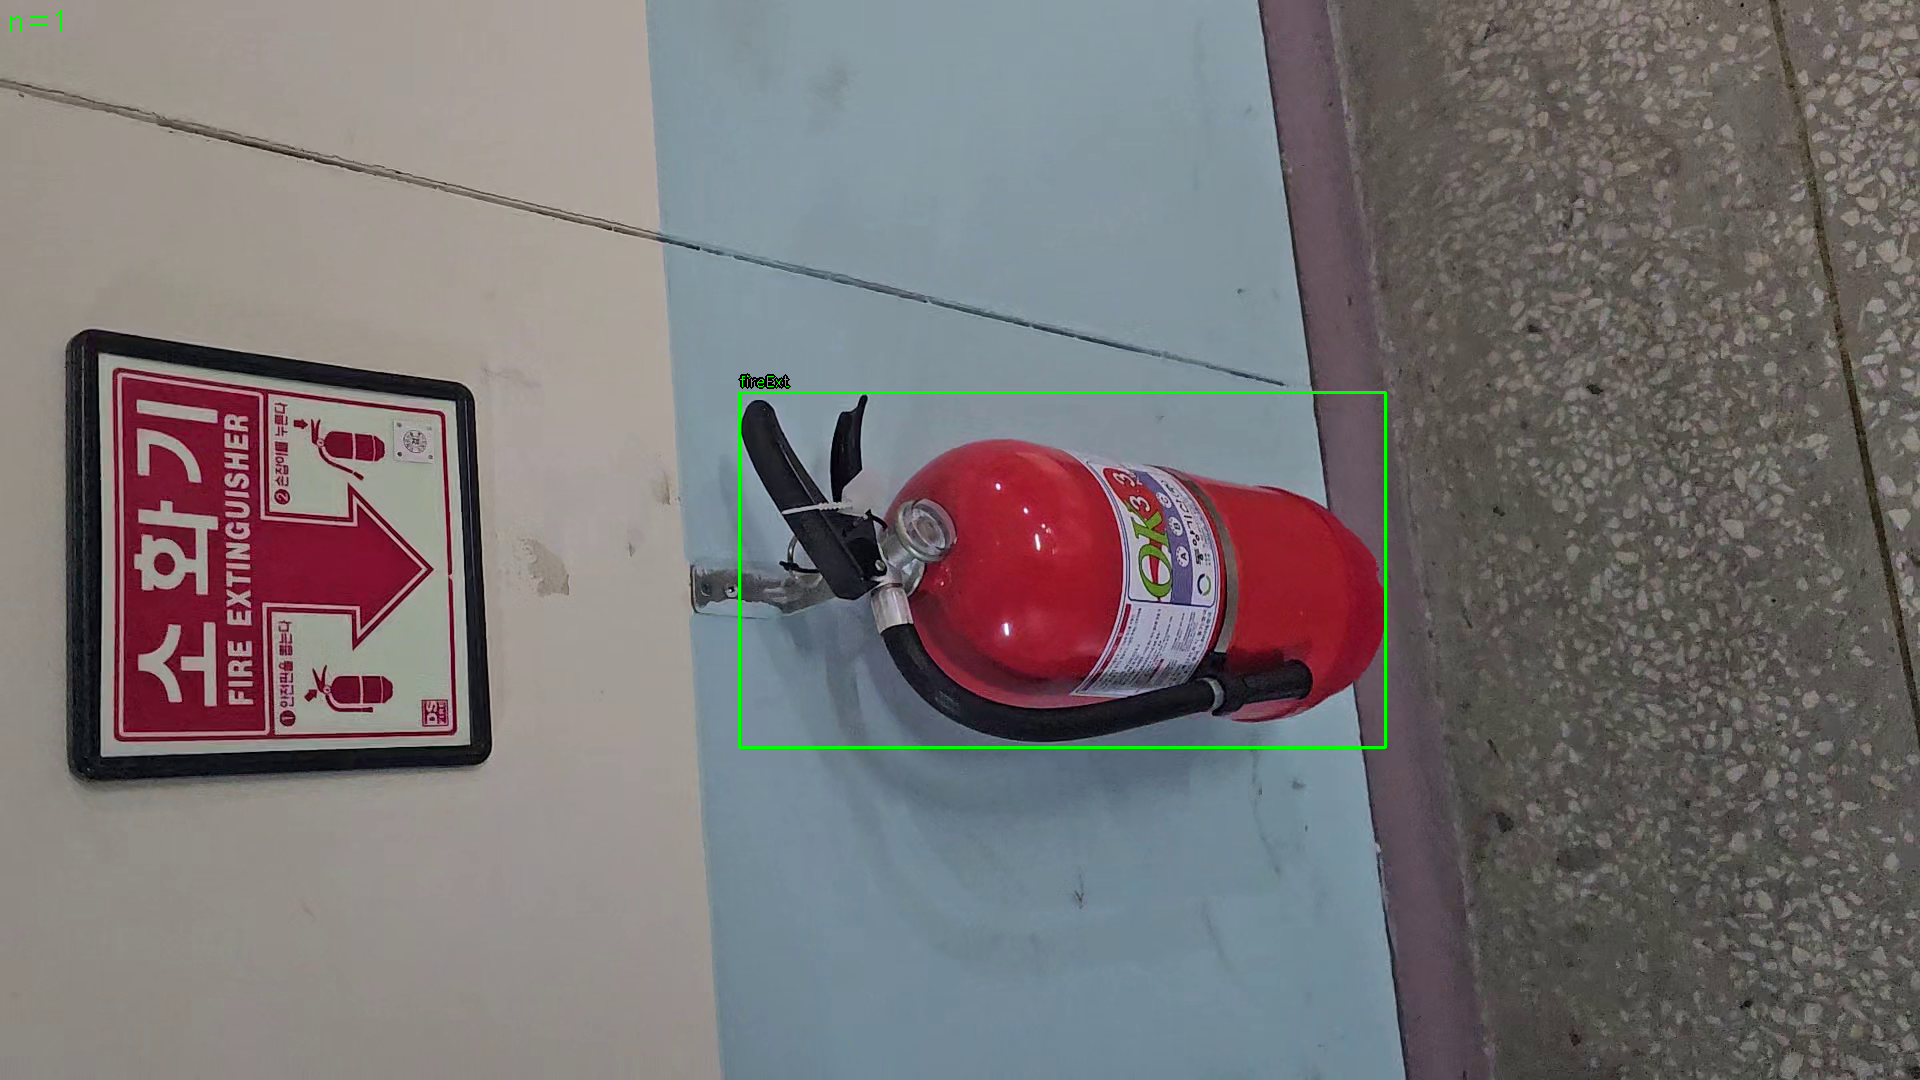lane: (738, 392, 1386, 748)
